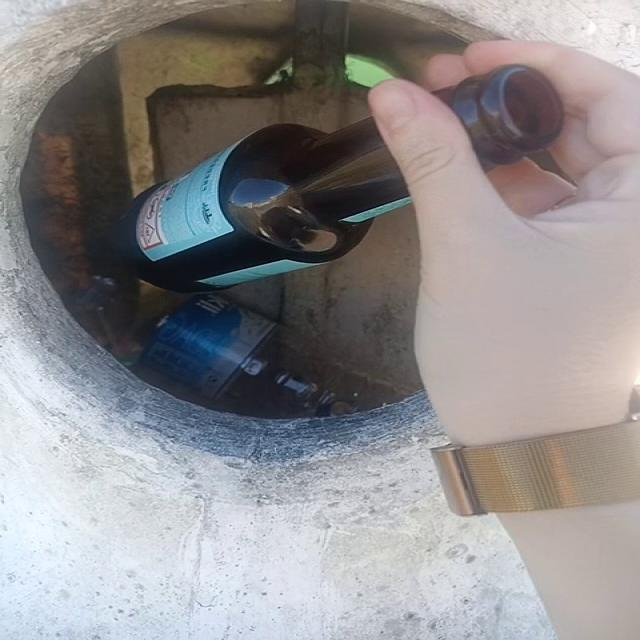Glass: (117, 118, 411, 292), (437, 64, 563, 166)
